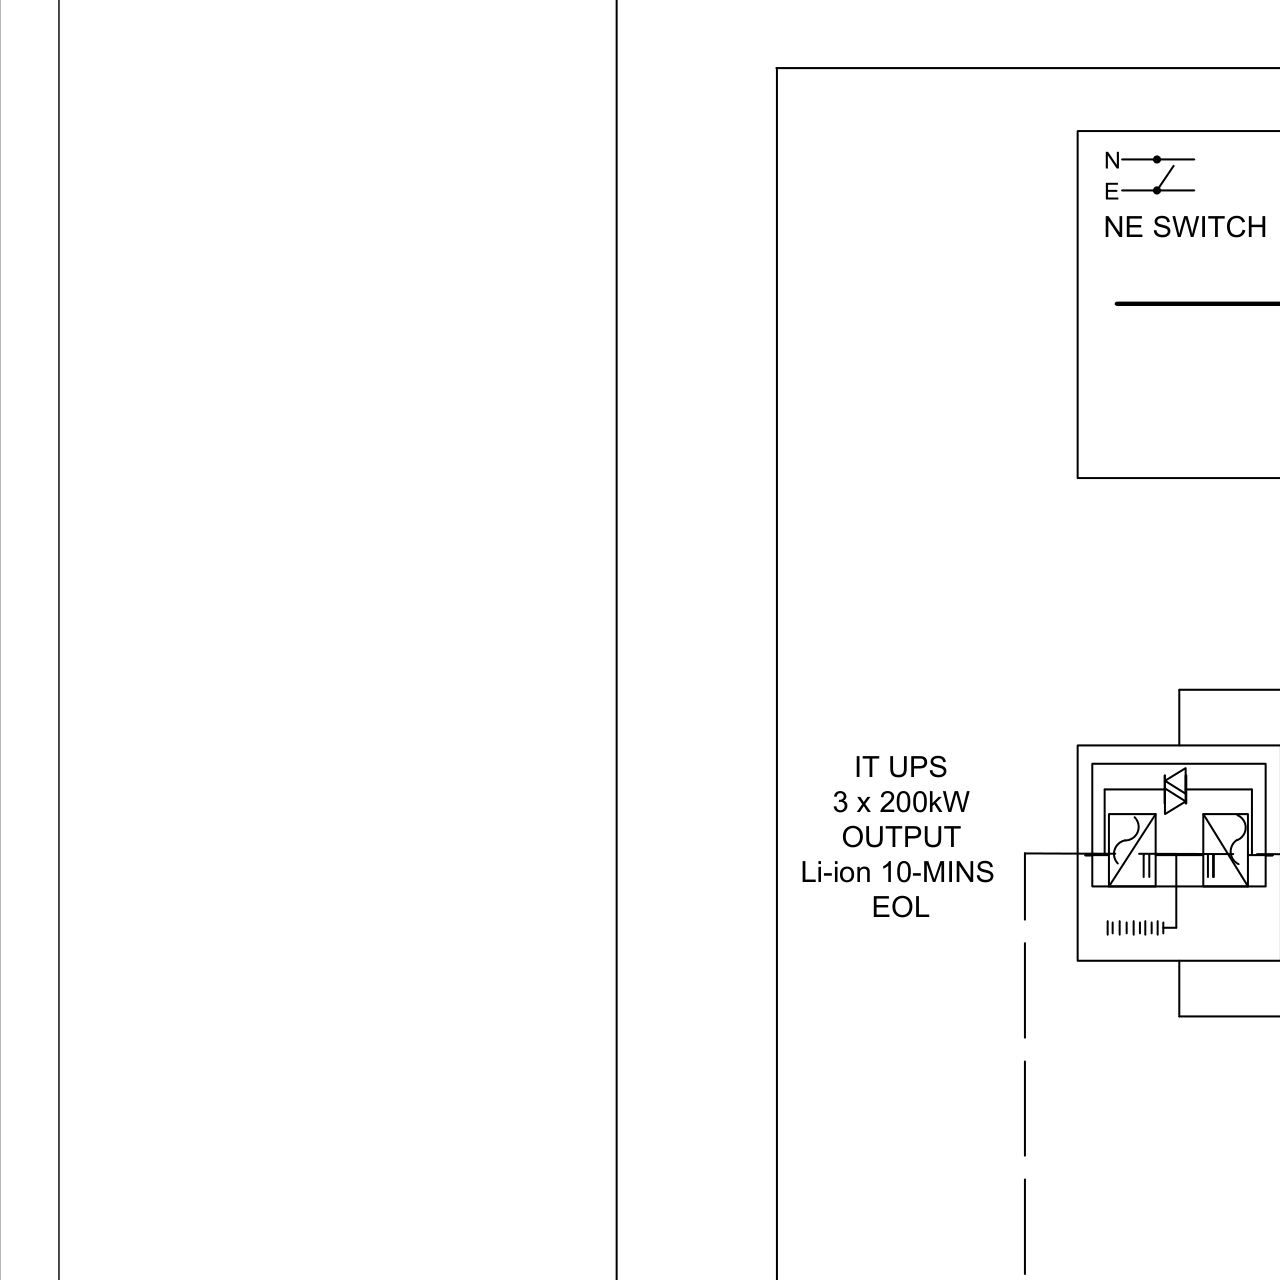UPS: (1084, 757, 1278, 954)
